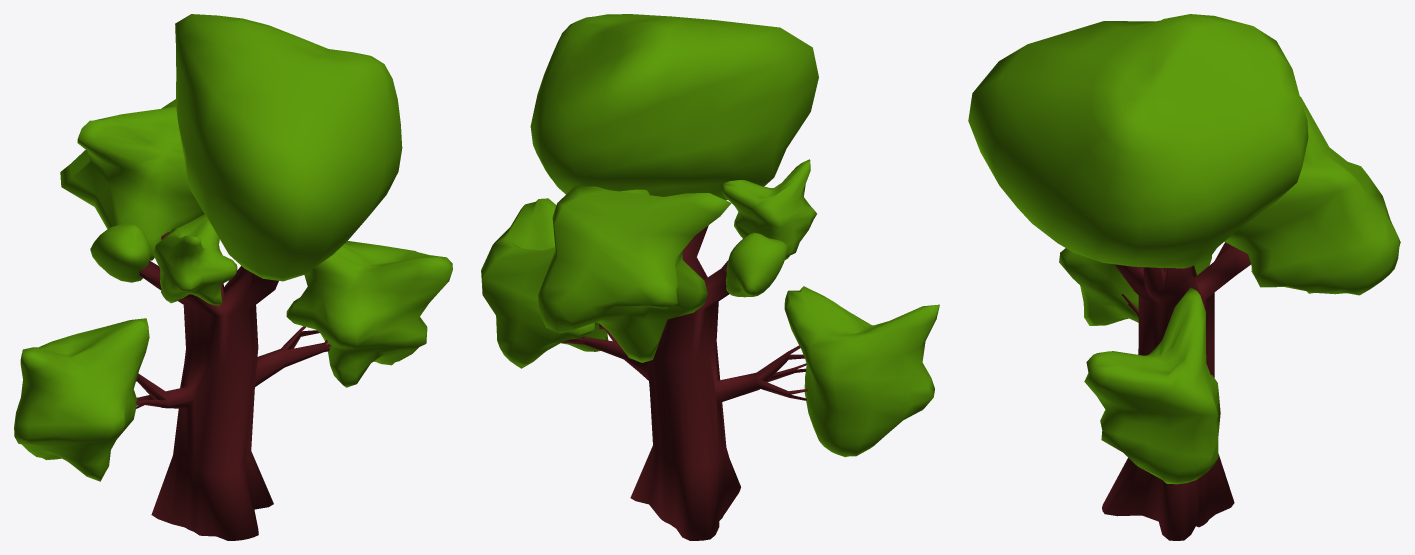
File: tree.glb
3 renders of one model, left to right at view 1: azimuth 30°, elevation 25°; view 2: azimuth 150°, elevation 25°; view 3: azimuth 270°, elevation 25°, orthographic. The views are drawn at different scales.
Parts seen in each view (by area): view 1: Sphere.003, Cylinder, Sphere.004, Sphere.006, Sphere.001, Sphere, Sphere.002; view 2: Sphere.003, Sphere.001, Cylinder, Sphere.004, Sphere.006, Sphere, Sphere.002; view 3: Sphere.003, Sphere.001, Sphere.006, Cylinder, Sphere.004.
Boxes of the visible parts, x1=… form: Sphere.003: x1=175, y1=14, x2=402, y2=281; Cylinder: x1=136, y1=232, x2=331, y2=540; Sphere.004: x1=14, y1=318, x2=149, y2=481; Sphere.006: x1=286, y1=241, x2=452, y2=387; Sphere.001: x1=60, y1=99, x2=204, y2=260; Sphere: x1=153, y1=214, x2=237, y2=305; Sphere.002: x1=90, y1=224, x2=150, y2=282; Sphere.003: x1=530, y1=14, x2=818, y2=200; Sphere.001: x1=538, y1=186, x2=731, y2=362; Cylinder: x1=559, y1=225, x2=807, y2=540; Sphere.004: x1=784, y1=286, x2=939, y2=457; Sphere.006: x1=481, y1=198, x2=608, y2=368; Sphere: x1=721, y1=159, x2=816, y2=259; Sphere.002: x1=725, y1=232, x2=787, y2=297; Sphere.003: x1=968, y1=14, x2=1308, y2=268; Sphere.001: x1=1224, y1=96, x2=1400, y2=295; Sphere.006: x1=1084, y1=287, x2=1220, y2=484; Cylinder: x1=1102, y1=242, x2=1250, y2=540; Sphere.004: x1=1059, y1=248, x2=1211, y2=325.
Size of the model in its own units: 13.55 by 14.9 by 11.37.
